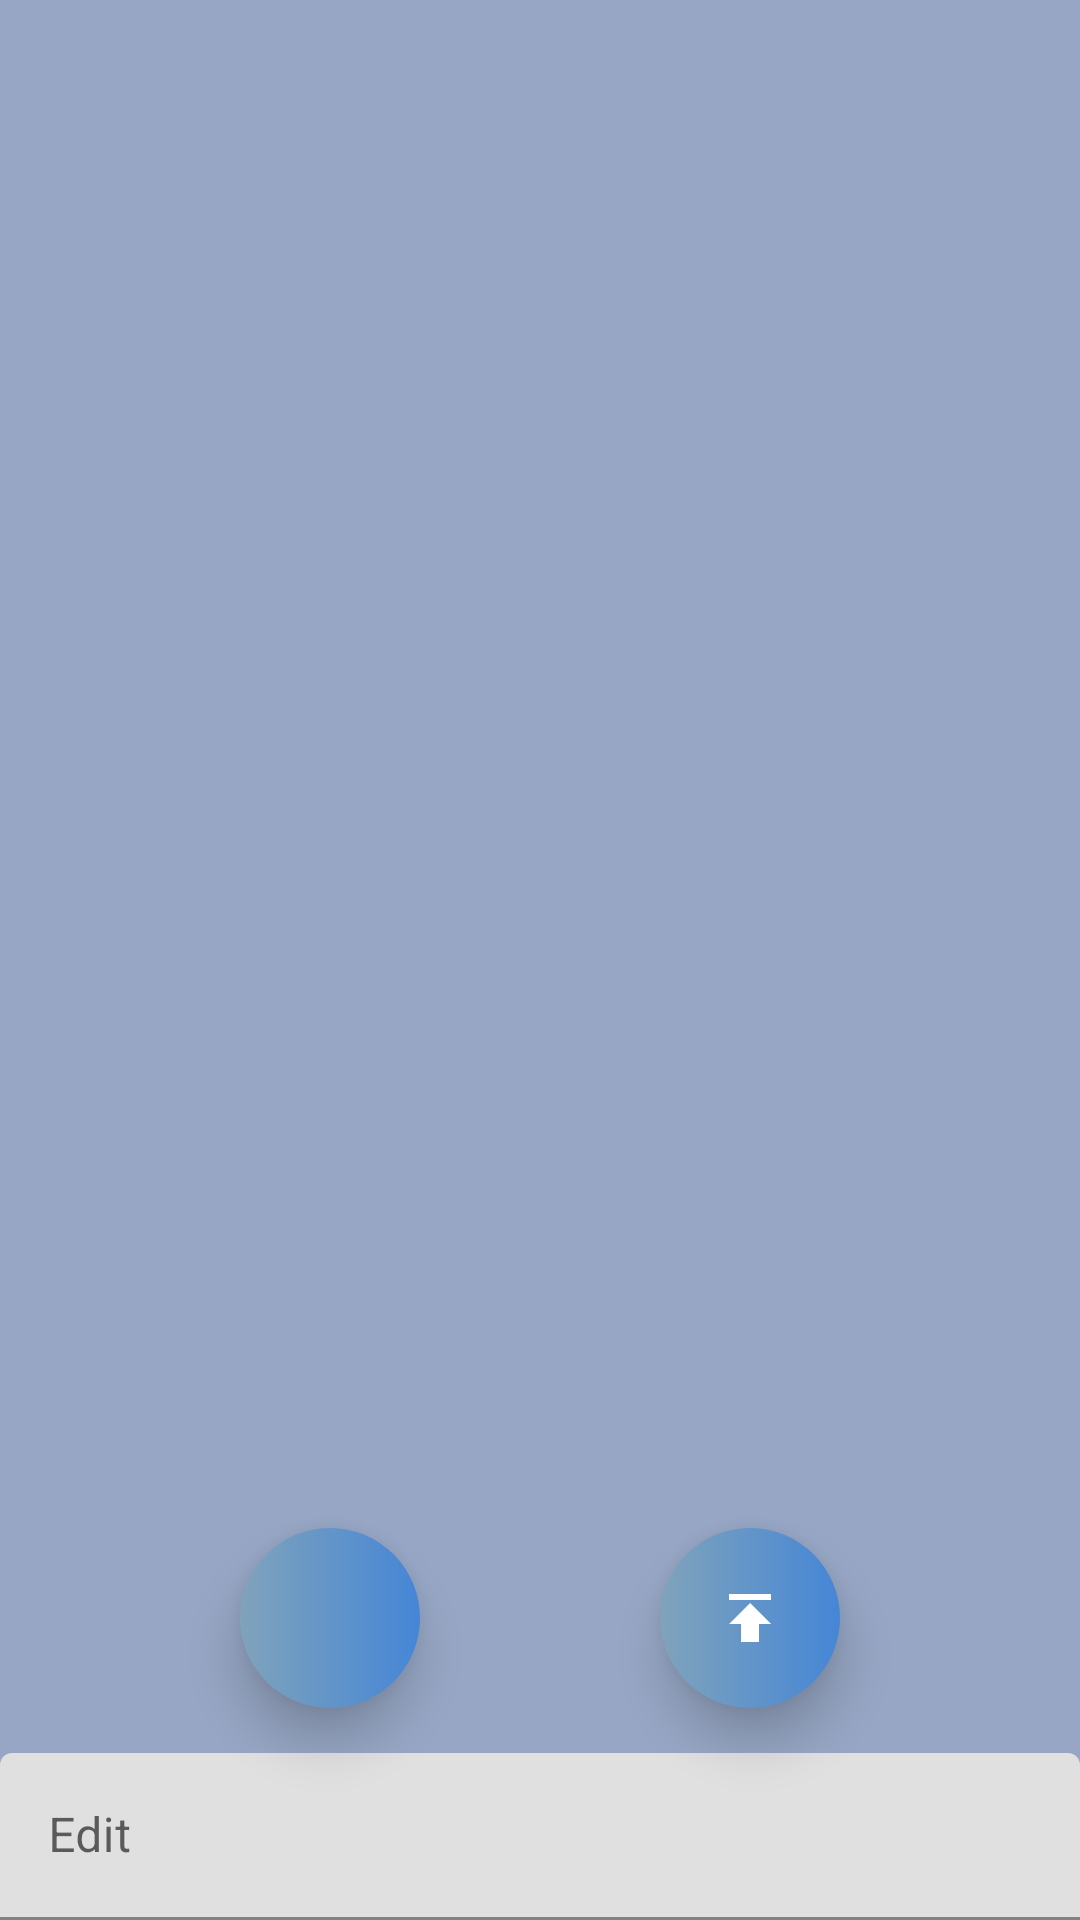

Locate icon controls on the screen. Image size 1080x1920, boxes as bbox=(x1, y1, x2, y2).
Publish Quote: bbox=(668, 1528, 840, 1708)
